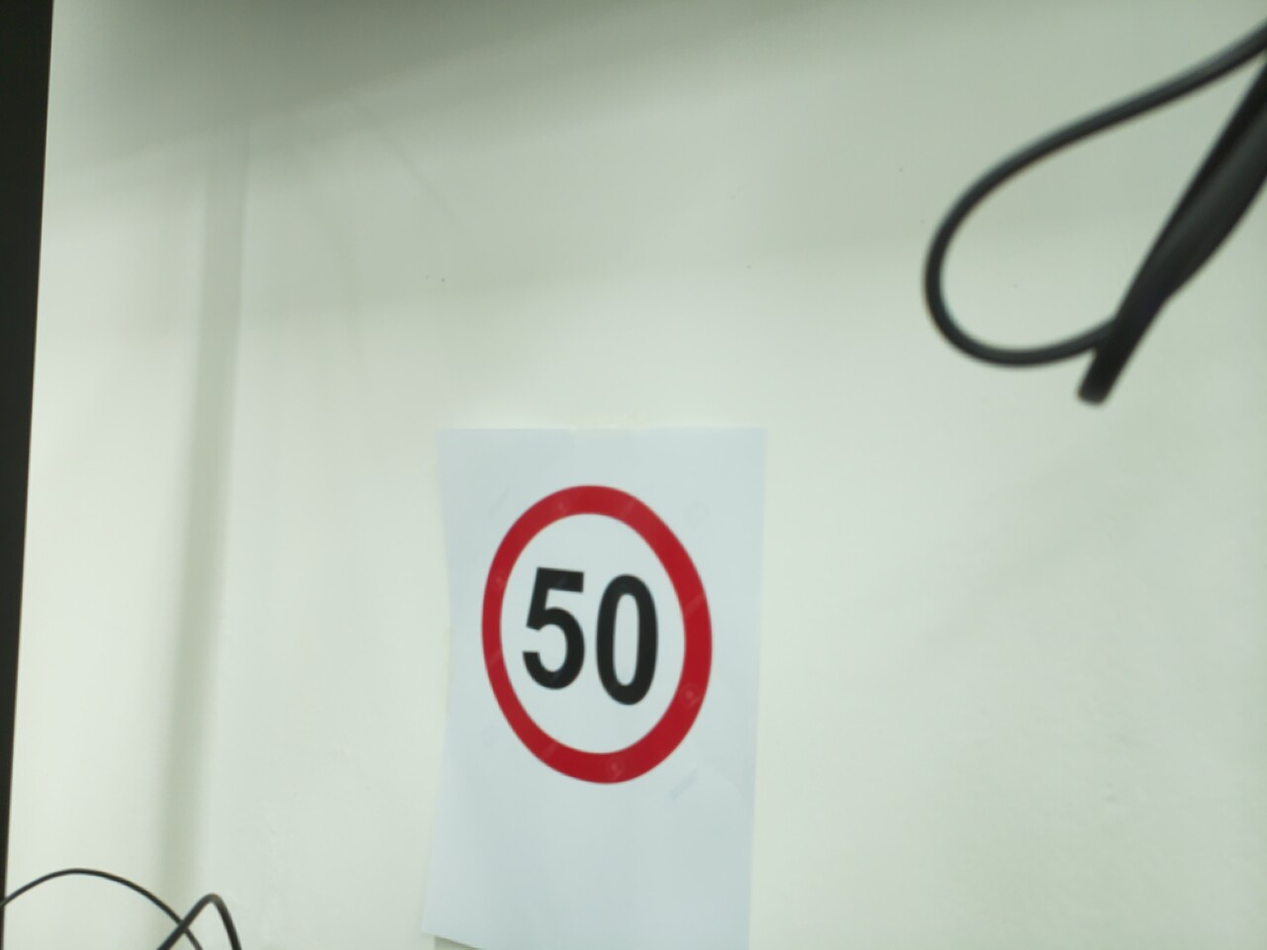speed_50: (473, 475, 721, 794)
